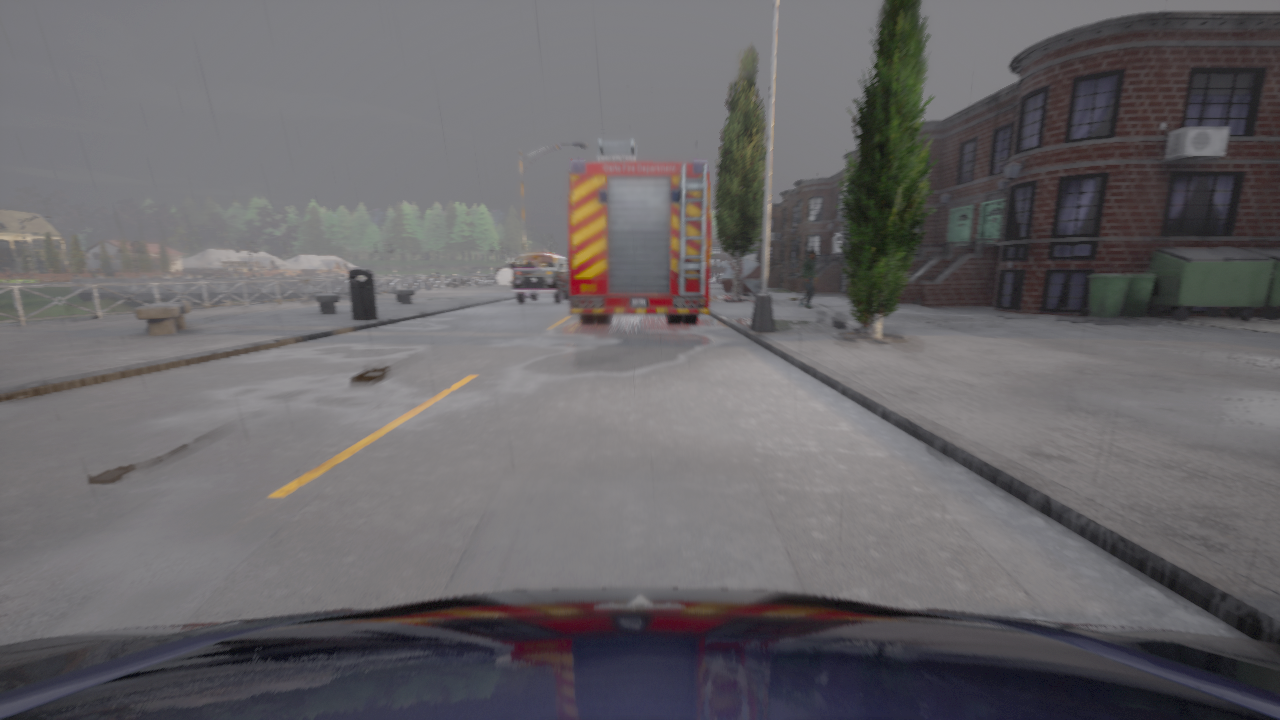cyclist: (0, 588, 1279, 719), (568, 139, 710, 324), (510, 253, 569, 303)
pedestrian: (799, 251, 817, 307)
